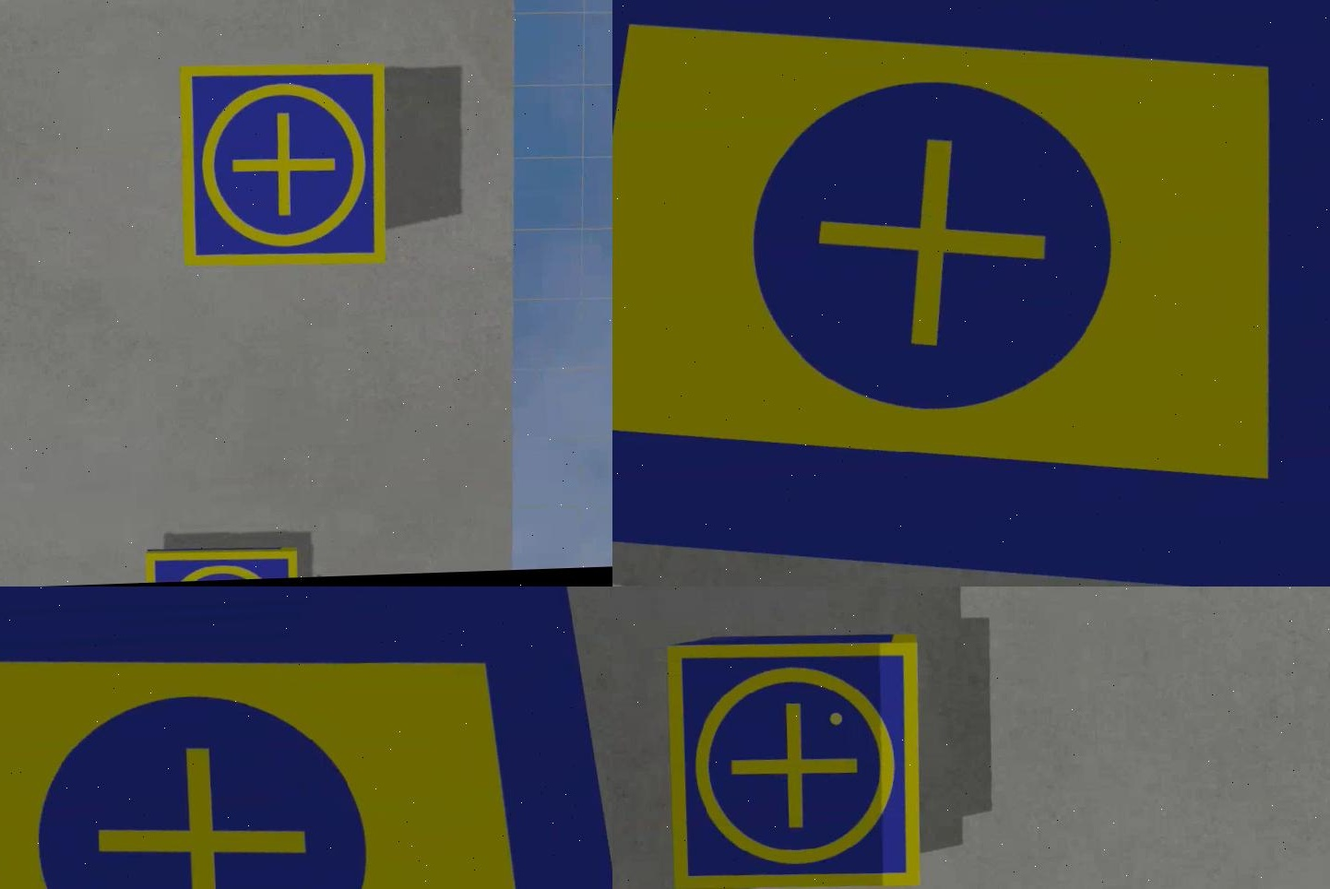large_base: (611, 1, 1328, 587), (0, 587, 611, 889)
small_base: (668, 639, 924, 889), (172, 59, 394, 271), (142, 541, 300, 587)
